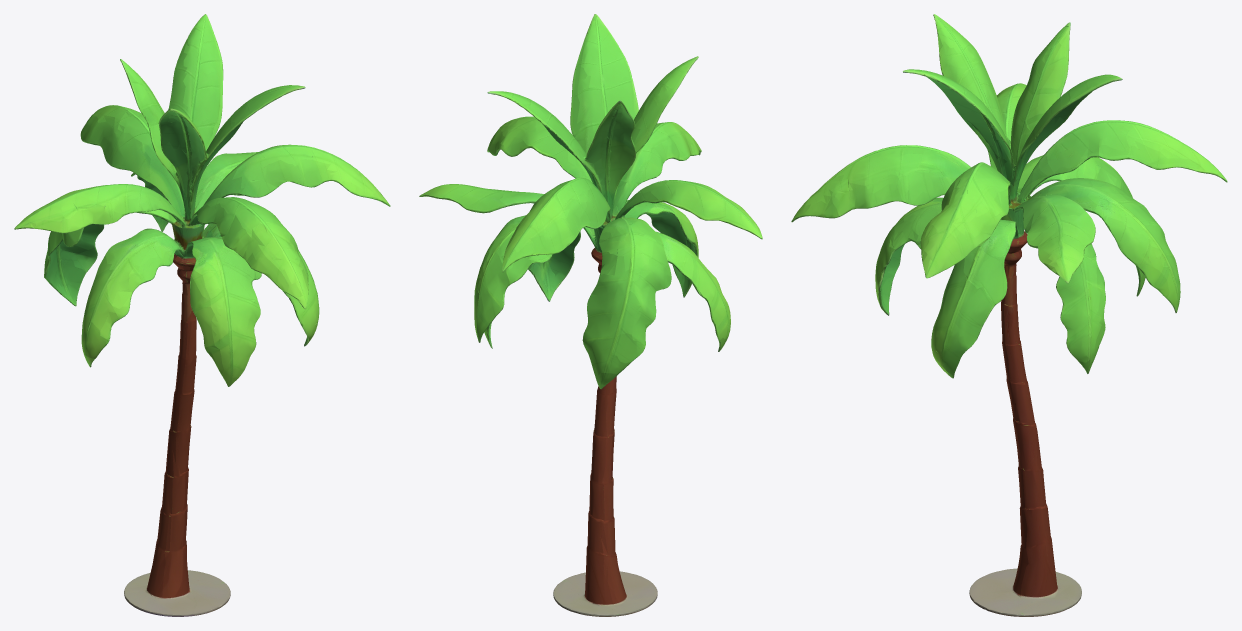
The picture shows the model from 3 angles, left to right: view 1: azimuth 30°, elevation 25°; view 2: azimuth 150°, elevation 25°; view 3: azimuth 270°, elevation 25°; orthographic projection. The views are drawn at different scales.
Size of the model in its own units: 1.24 by 1.9 by 1.35.
Materials: 1 (1 with a texture image).
